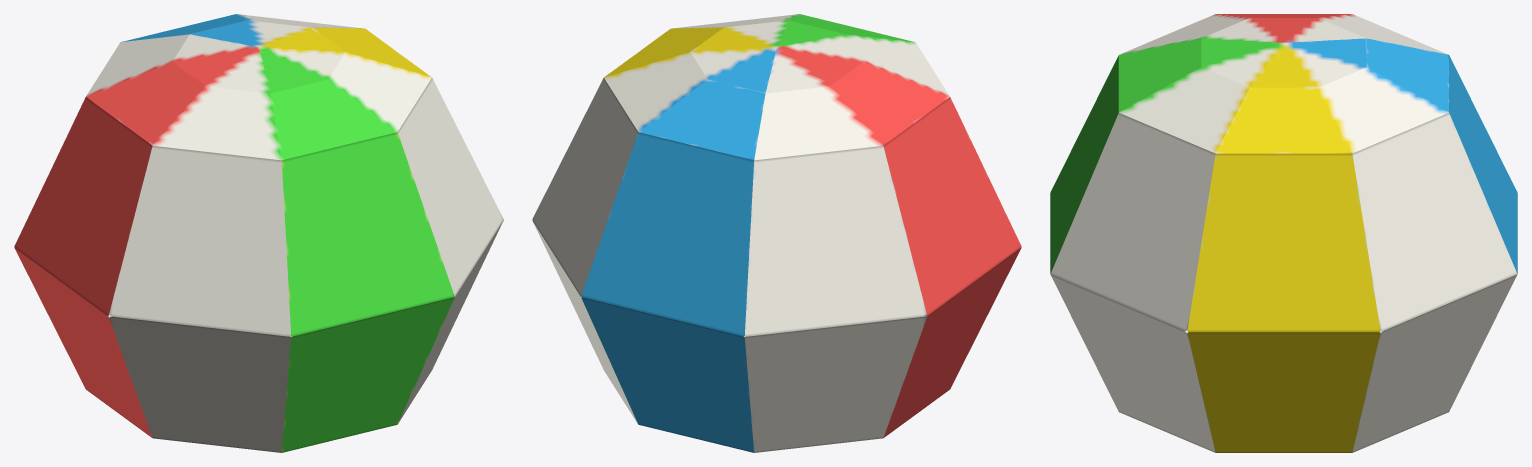
File: Ball.fbx
The picture shows the model from 3 angles, left to right: view 1: azimuth 30°, elevation 25°; view 2: azimuth 150°, elevation 25°; view 3: azimuth 270°, elevation 25°; orthographic projection. The views are drawn at different scales.
Parts seen in each view (by area): view 1: ball; view 2: ball; view 3: ball.
Boxes of the visible parts, x1,y1,x2,y2 form: ball: (14,14,503,452); ball: (532,14,1021,452); ball: (1050,14,1517,452).
Bounding box in the file's own units: 12.5 × 11.25 × 12.5.
1 material, 1 textured.
